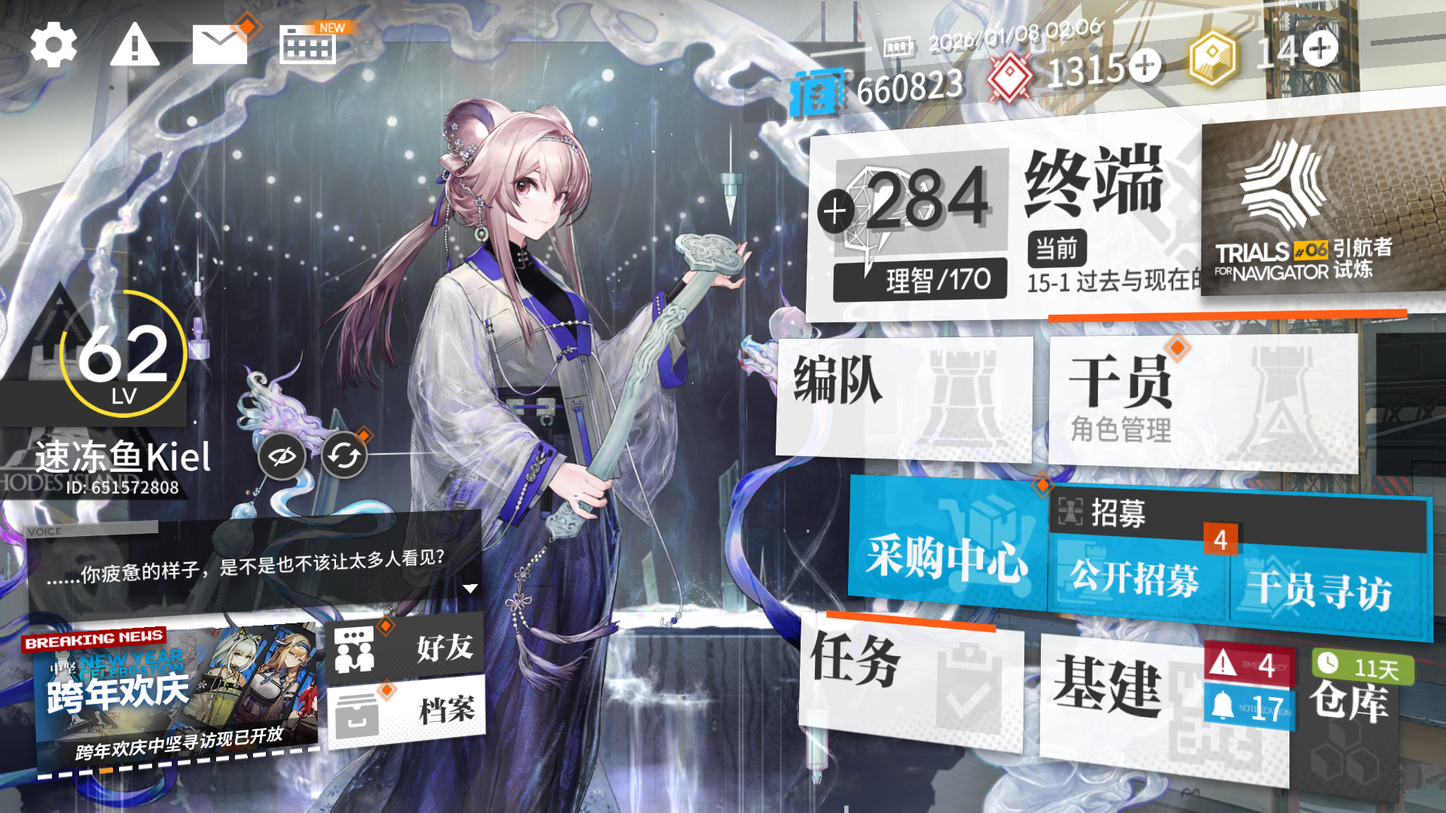home_button: (1014, 131, 1185, 232)
infrastructure_button: (1036, 628, 1275, 781)
